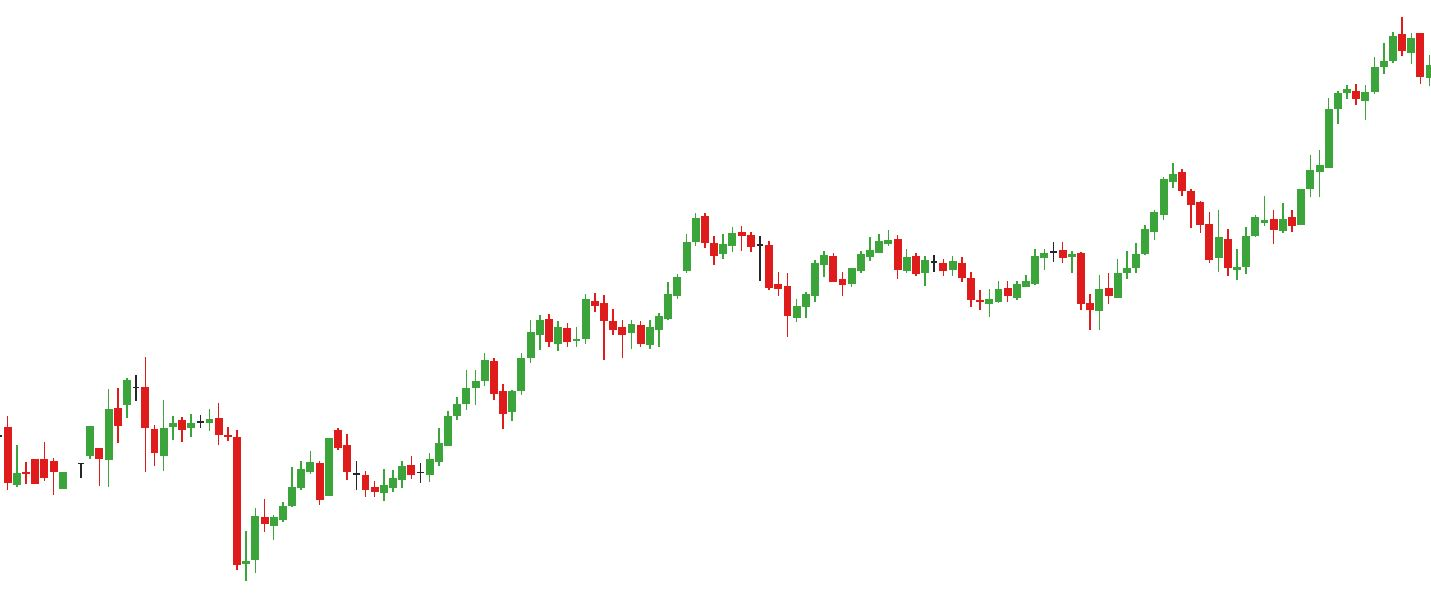buy: (985, 260, 1105, 338)
